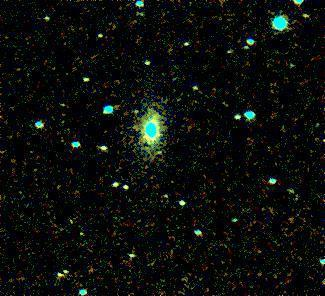star: (150, 140, 180, 170)
